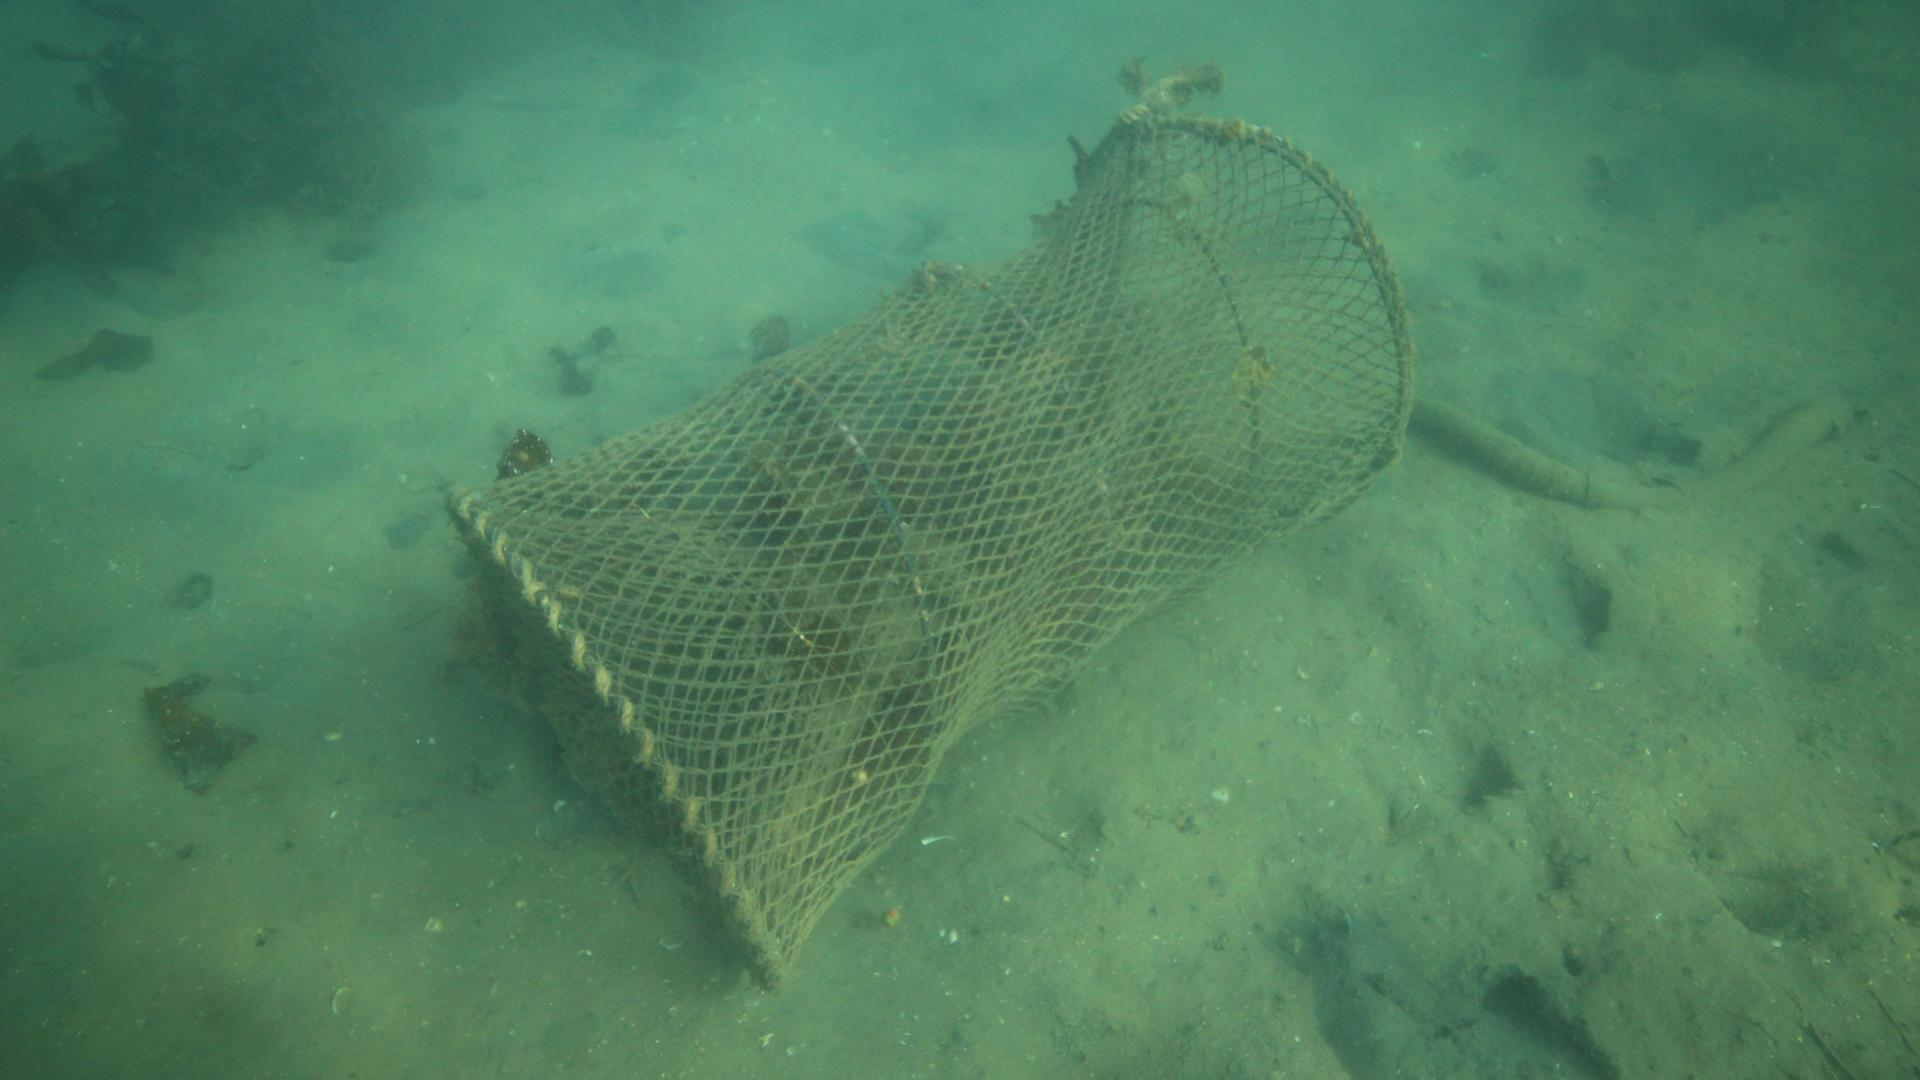spring fish trap: (446, 109, 1418, 996)
